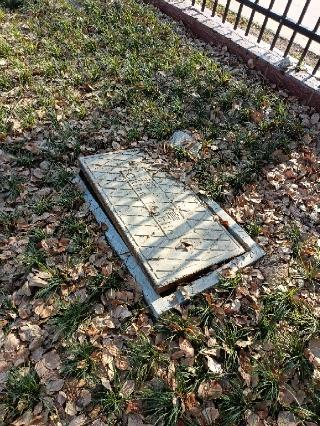wellcover: (74, 136, 252, 303)
